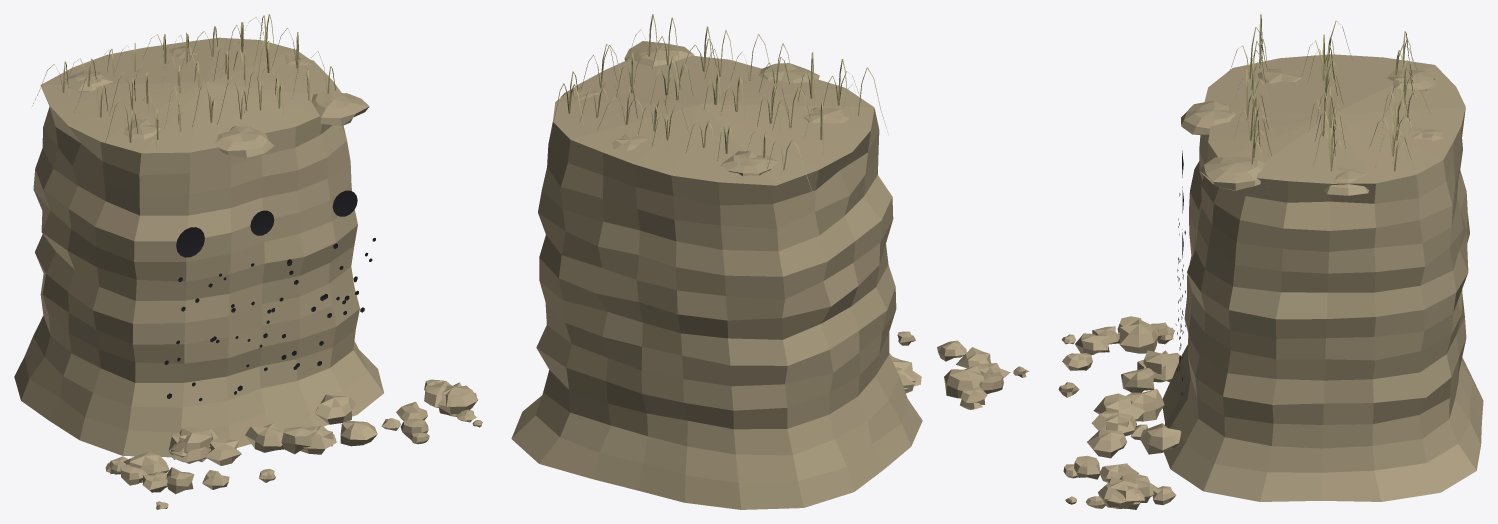
The model's file is sand-bank-v1.glb.
The picture shows the model from 3 angles, left to right: view 1: azimuth 30°, elevation 25°; view 2: azimuth 150°, elevation 25°; view 3: azimuth 270°, elevation 25°; orthographic projection. The views are drawn at different scales.
Parts seen in each view (by area): view 1: bank, scree, grass, bee-holes; view 2: bank, grass, scree; view 3: bank, scree, grass.
Part boxes in pixels (bbox=[...]): bank: bbox=[14, 37, 383, 457]; scree: bbox=[105, 379, 482, 509]; grass: bbox=[32, 14, 335, 158]; bee-holes: bbox=[164, 190, 375, 401]; bank: bbox=[511, 41, 922, 509]; grass: bbox=[551, 14, 888, 190]; scree: bbox=[889, 331, 1029, 409]; bank: bbox=[1162, 54, 1483, 501]; scree: bbox=[1058, 316, 1181, 509]; grass: bbox=[1228, 14, 1428, 180].
Size of the model in its own units: 0.8218 by 0.7474 by 0.8101.
